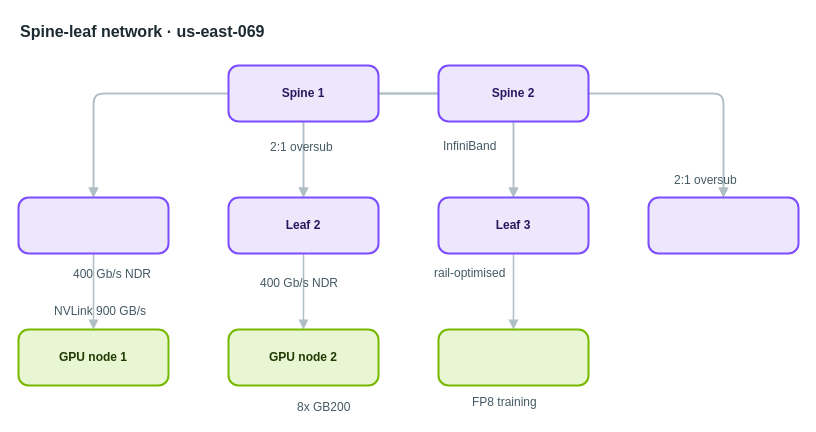
Some shapes in this 816 by 432 pixel diagram are drawn without their labels. Here are the shapes that lost their labels. From the top down, the centre of each, then its label:
At (93,225): "Leaf 1".
At (723,225): "Leaf 4".
At (513,357): "GPU node 3".
